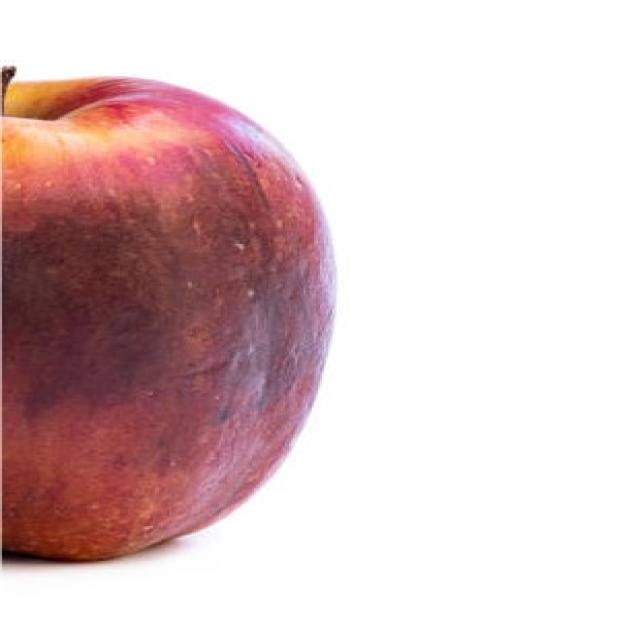overripe: (0, 66, 351, 572)
